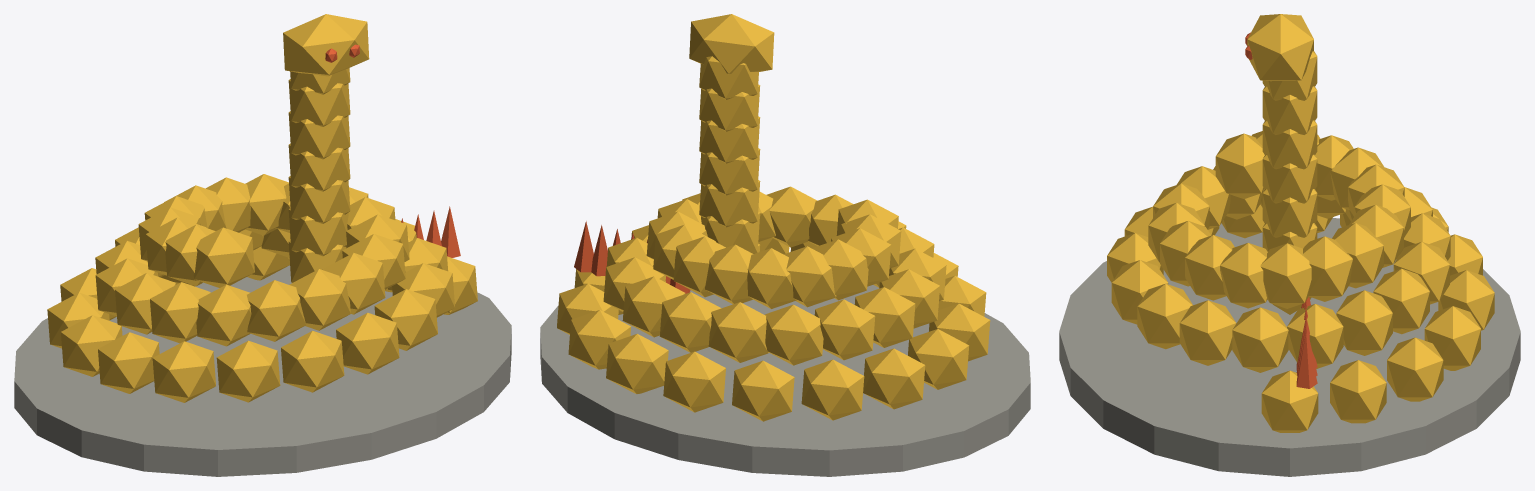
The model's file is chefe_mae_do_ouro.glb.
The picture shows the model from 3 angles, left to right: view 1: azimuth 30°, elevation 25°; view 2: azimuth 150°, elevation 25°; view 3: azimuth 270°, elevation 25°; orthographic projection. The views are drawn at different scales.
Parts seen in each view (by area): view 1: chefe_mae_do_ouro; view 2: chefe_mae_do_ouro; view 3: chefe_mae_do_ouro.
Boxes of the visible parts, <box> form: chefe_mae_do_ouro: <box>14,14,511,476</box>; chefe_mae_do_ouro: <box>540,14,1030,476</box>; chefe_mae_do_ouro: <box>1059,14,1520,476</box>.
Bounding box in the file's own units: 12 × 9 × 10.
